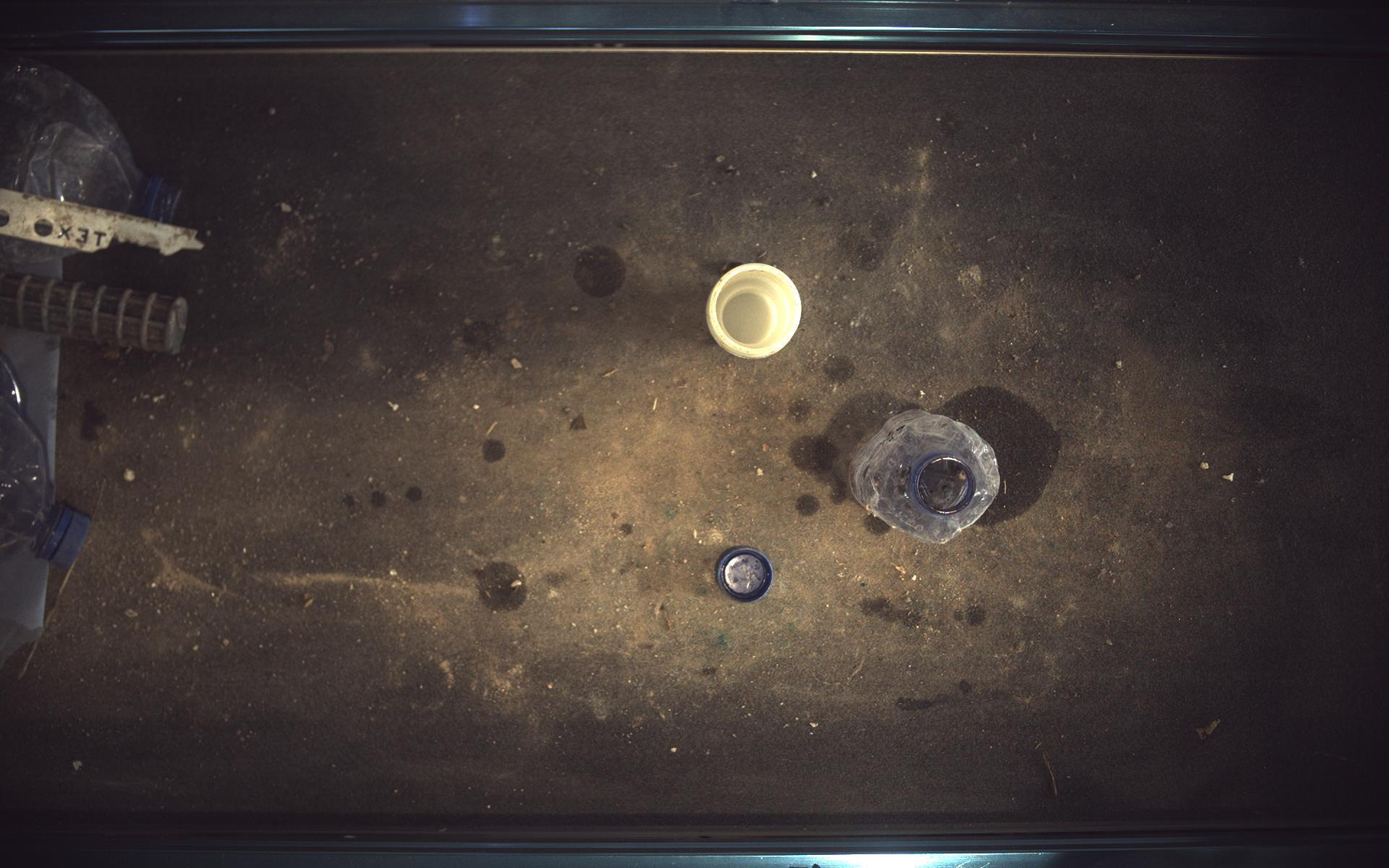general_w: (851, 409, 1003, 544), (718, 548, 775, 603)
